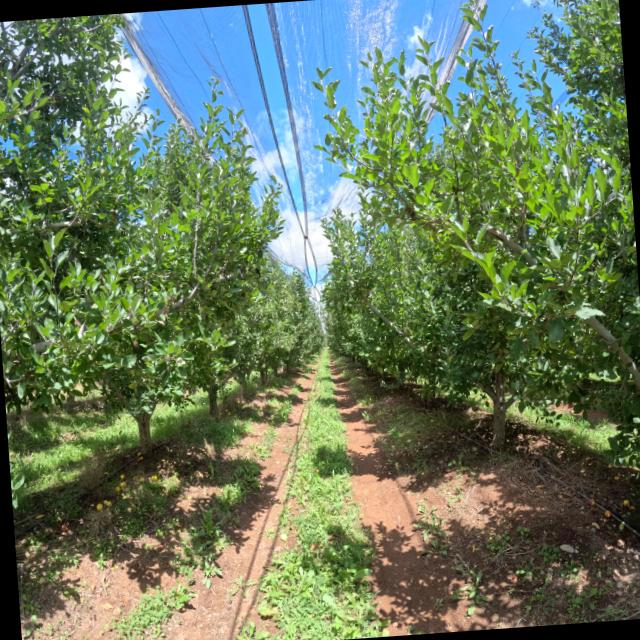-FireBlight-: (163, 292, 175, 318)
